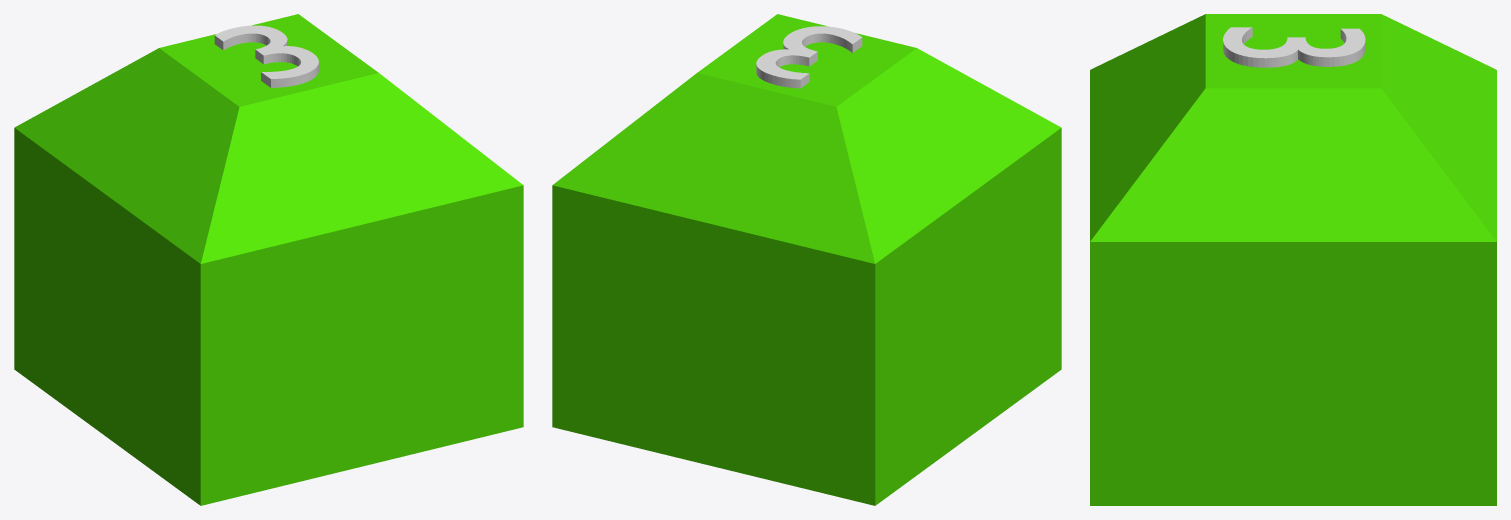
The model's file is house3.dae.
3 renders of one model, left to right at view 1: azimuth 30°, elevation 25°; view 2: azimuth 150°, elevation 25°; view 3: azimuth 270°, elevation 25°, orthographic. The views are drawn at different scales.
Parts seen in each view (by area): view 1: House2; view 2: House2; view 3: House2.
Part boxes in pixels (left/top/right/bottom): House2: left=14, top=14, right=523, bottom=505; House2: left=552, top=14, right=1061, bottom=505; House2: left=1090, top=14, right=1496, bottom=505.
Bounding box in the file's own units: 2 × 2 × 2.05.
